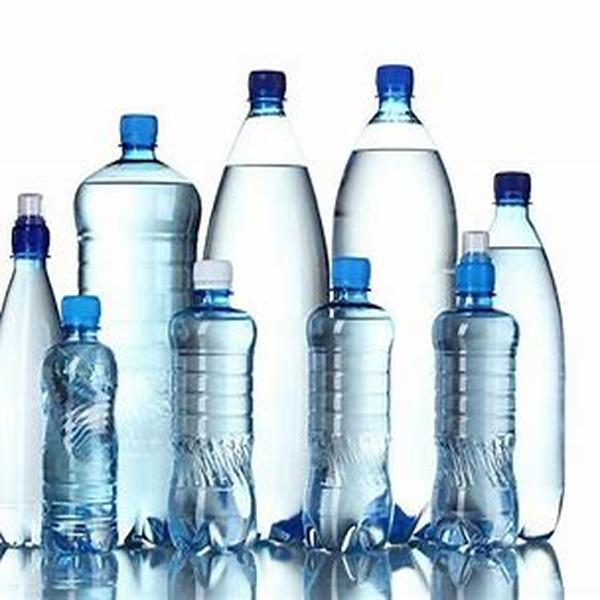tutuma: (295, 245, 403, 559), (429, 221, 527, 563), (159, 246, 258, 569), (39, 284, 125, 566)
